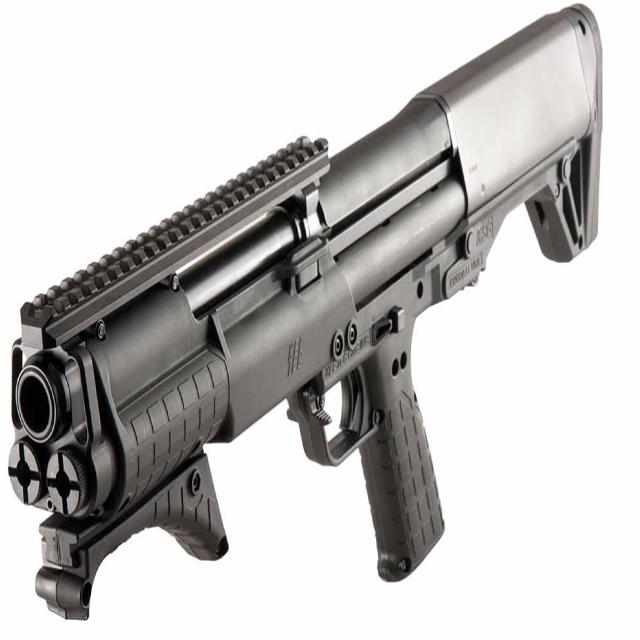Weapon: (7, 6, 600, 617)
